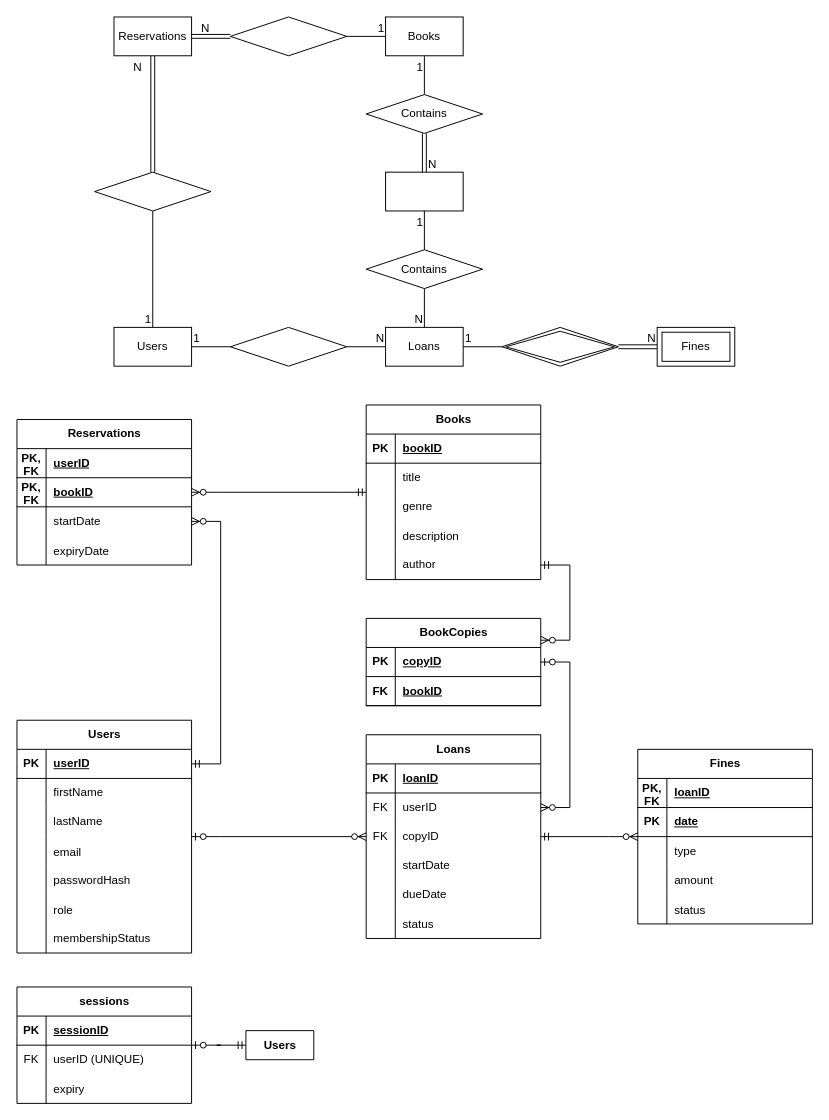
This 829x1120 diagram has some shape labels left out. The centre of each missing label's shape, as x and y in pixels:
Book Copies: (424,191)
Borrows: (288,346)
Issues: (559,346)
Makes: (152,191)
Reserves: (288,36)
